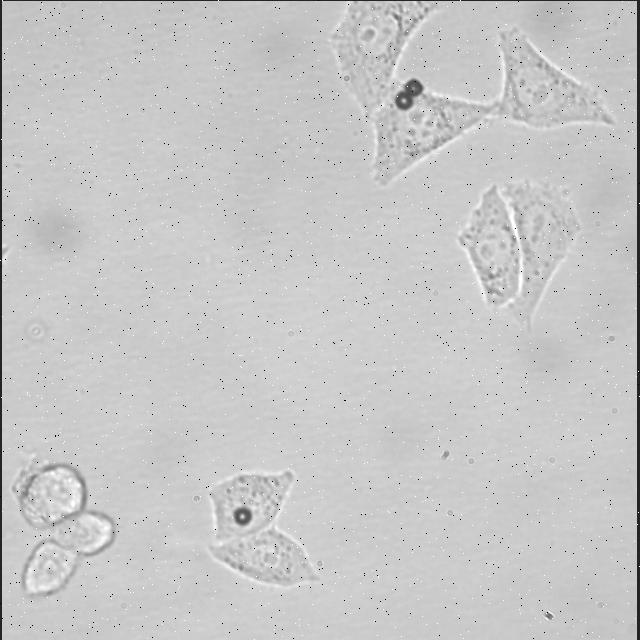microbeads: (406, 74, 424, 95), (396, 91, 414, 109), (233, 508, 255, 522)
